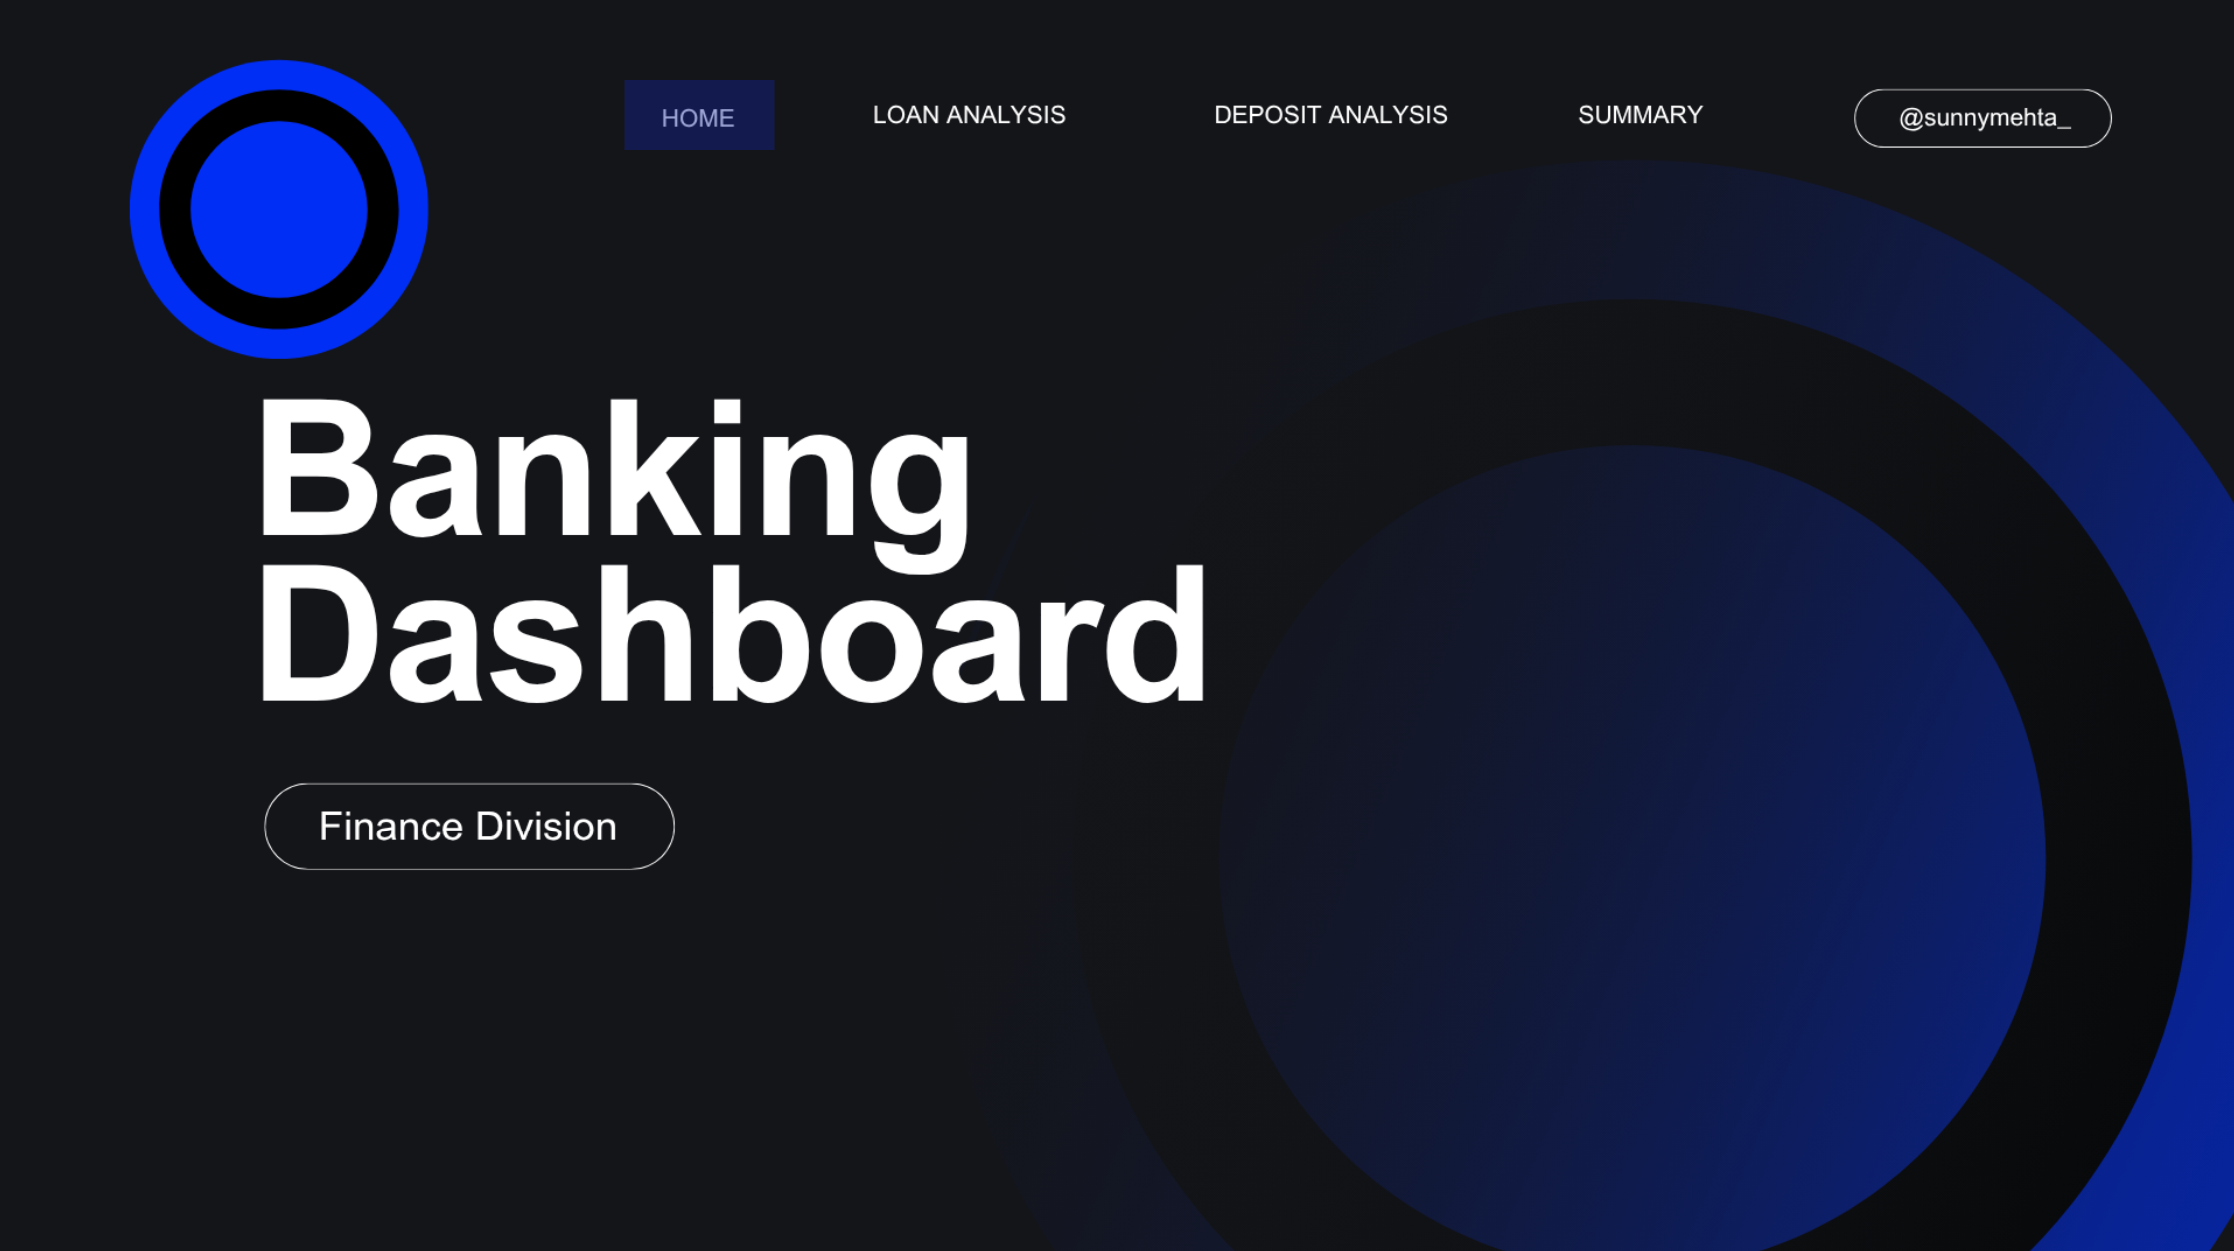

What the dashboard file says about the page in this screenshot:
{"tool":"powerbi","page":{"name":"HOME","canvas":[1280,720],"ordinal":0},"visuals":[{"type":"actionButton","box":[488.5,48.5,126.2,40],"z":0},{"type":"actionButton","box":[688.5,48.5,146.9,40],"z":1000},{"type":"actionButton","box":[885.4,48.5,100,40],"z":2000},{"type":"shape","box":[358,48,86,40],"z":3000}]}

Visuals, with their boxes in screenshot pixels (x1, y1, x2, y2), scaled from the page's 1280x720 canvas onto the 2234x1251 screenshot:
actionButton: Rect(853, 84, 1073, 154)
actionButton: Rect(1202, 84, 1458, 154)
actionButton: Rect(1545, 84, 1720, 154)
shape: Rect(625, 83, 775, 153)
